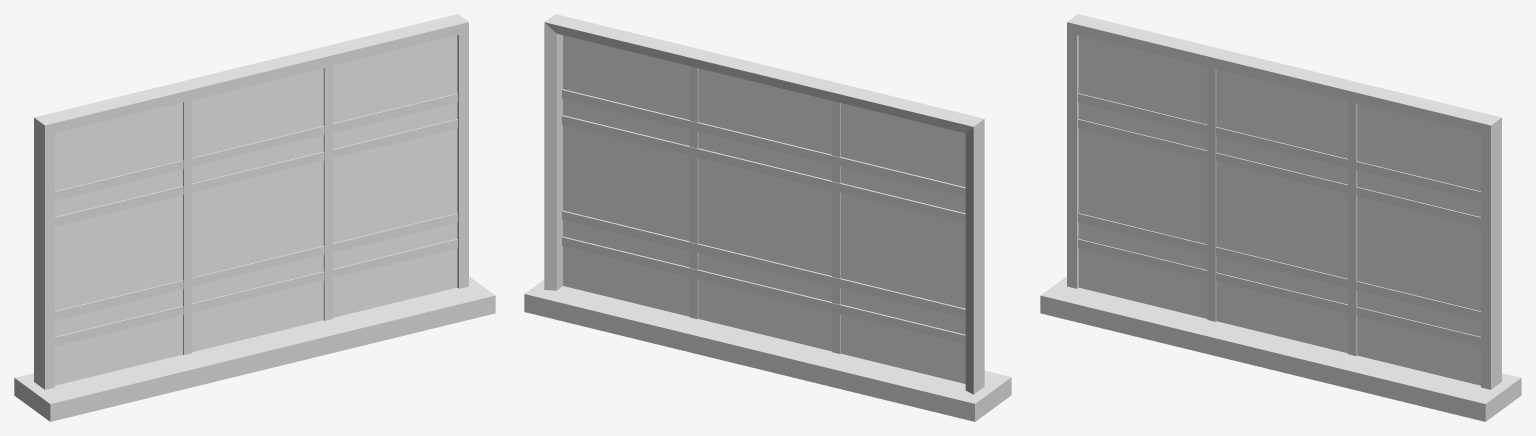
File: window_006.fbx
The picture shows the model from 3 angles, left to right: view 1: azimuth 30°, elevation 25°; view 2: azimuth 150°, elevation 25°; view 3: azimuth 330°, elevation 25°; orthographic projection.
Parts seen in each view (by area): view 1: window_006; view 2: window_006; view 3: window_006.
Boxes of the visible parts, x1,y1,x2,y2 form: window_006: (14,14,495,421); window_006: (524,14,1011,421); window_006: (1040,14,1521,421).
Size of the model in its own units: 305 by 42.75 by 185.
